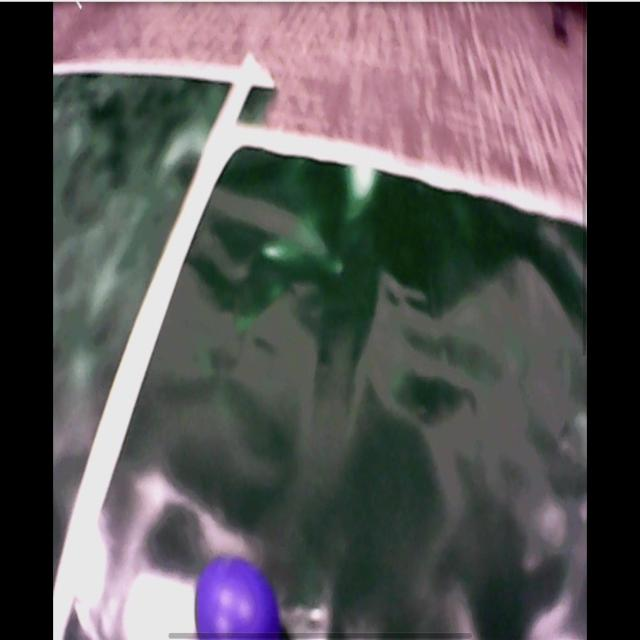ball: (194, 555, 279, 640)
